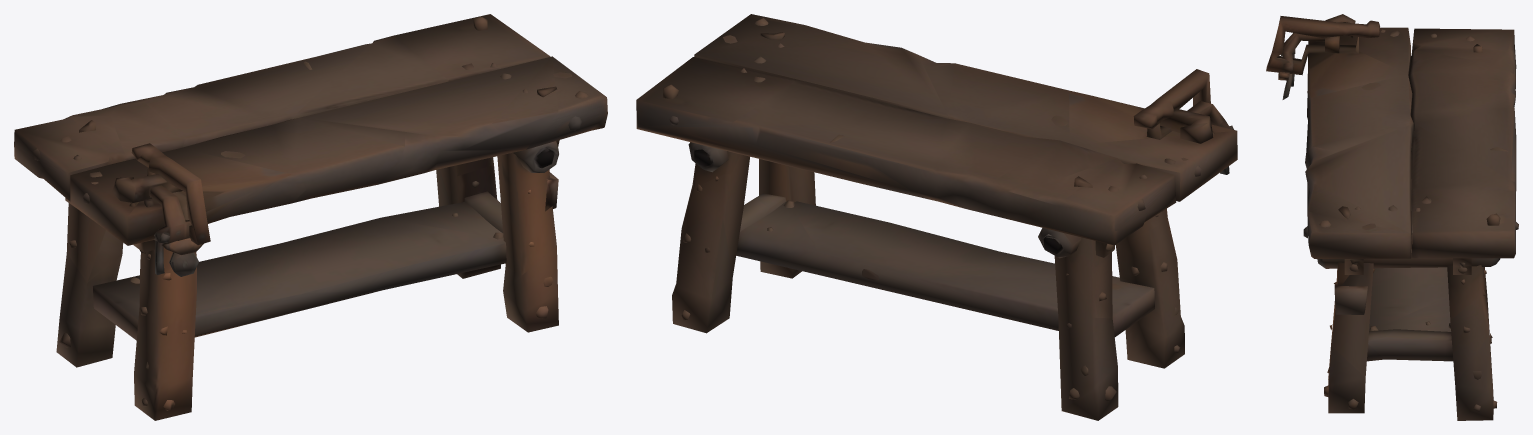
Rendered from workbench.glb.
3 views of the same model, side by side, from view 1: azimuth 30°, elevation 25°; view 2: azimuth 150°, elevation 25°; view 3: azimuth 270°, elevation 25° (orthographic). The views are drawn at different scales.
Parts seen in each view (by area): view 1: workbench_LOD0; view 2: workbench_LOD0; view 3: workbench_LOD0.
Part boxes in pixels (x1,y1,x2,y2): workbench_LOD0: [14, 14, 607, 420]; workbench_LOD0: [636, 14, 1237, 420]; workbench_LOD0: [1266, 14, 1518, 420].
Size of what is drawn, in the model's own units: 1.75 by 0.9 by 0.8972.
1 material, 1 textured.
